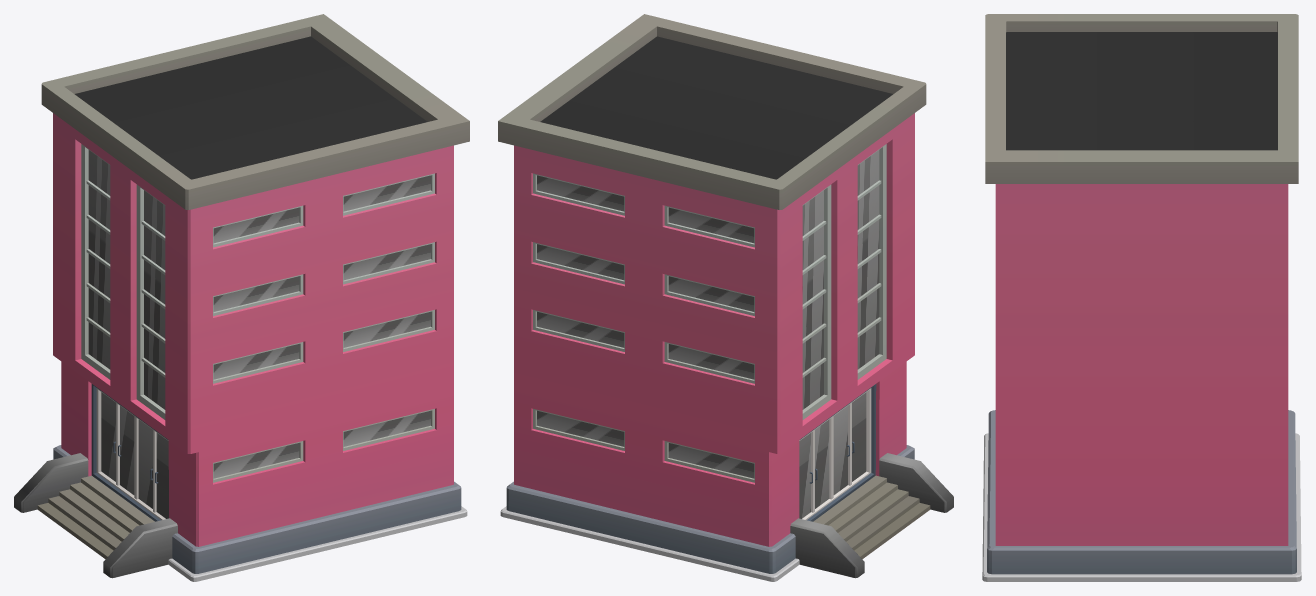
Rendered from Building_26_B.fbx.
The picture shows the model from 3 angles, left to right: view 1: azimuth 30°, elevation 25°; view 2: azimuth 150°, elevation 25°; view 3: azimuth 270°, elevation 25°; orthographic projection. The views are drawn at different scales.
Parts seen in each view (by area): view 1: Building_26_B; view 2: Building_26_B; view 3: Building_26_B.
Part boxes in pixels (bbox=[...]): Building_26_B: bbox=[14, 14, 469, 581]; Building_26_B: bbox=[498, 14, 953, 581]; Building_26_B: bbox=[982, 14, 1301, 581].
Size of the model in its own units: 923 by 1037 by 712.
